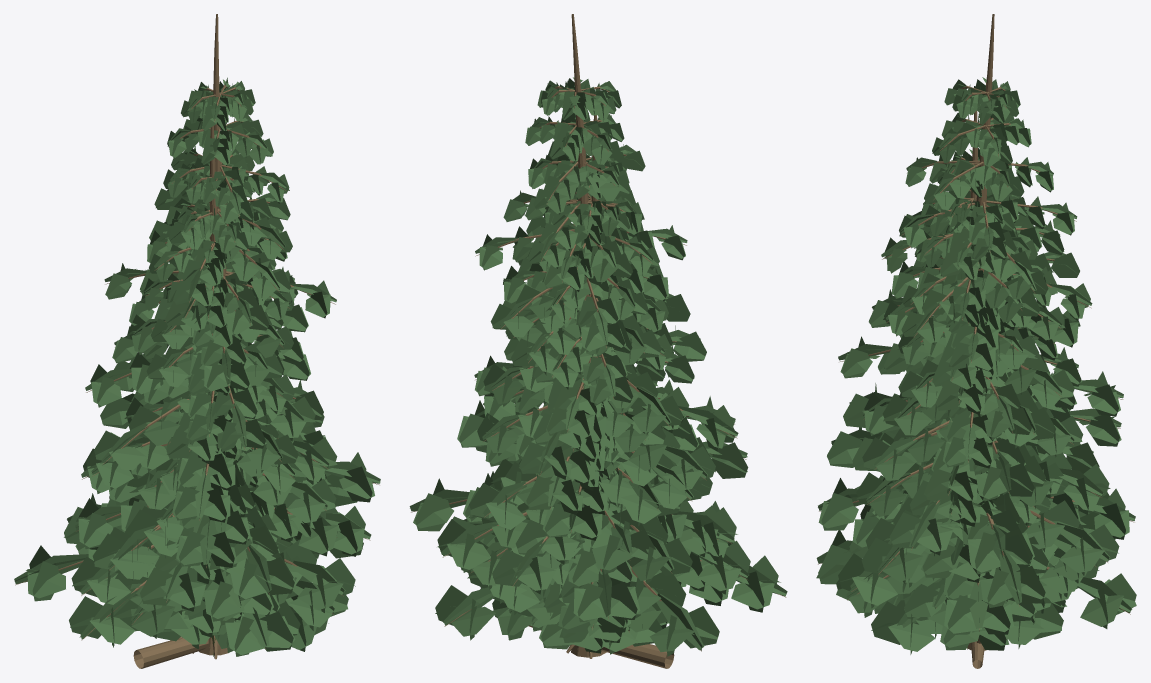
Rendered from shore_kit.glb.
The picture shows the model from 3 angles, left to right: view 1: azimuth 30°, elevation 25°; view 2: azimuth 150°, elevation 25°; view 3: azimuth 270°, elevation 25°; orthographic projection.
Parts seen in each view (by area): view 1: FirB_Needles, FirA_Needles, YoungFir_Needles, FirB_Wood, FirA_Wood, Driftwood; view 2: FirB_Needles, FirA_Needles, YoungFir_Needles, FirB_Wood, FirA_Wood, Driftwood; view 3: FirB_Needles, FirA_Needles, YoungFir_Needles, FirB_Wood, FirA_Wood.
Part boxes in pixels (x1,y1,x2,y2): FirB_Needles: [14, 77, 380, 647]; FirA_Needles: [64, 164, 371, 656]; YoungFir_Needles: [134, 390, 328, 652]; FirB_Wood: [15, 14, 379, 655]; FirA_Wood: [76, 126, 370, 659]; Driftwood: [133, 636, 208, 668]; FirB_Needles: [409, 77, 787, 656]; FirA_Needles: [435, 155, 750, 640]; YoungFir_Needles: [492, 384, 681, 654]; FirB_Wood: [411, 14, 786, 657]; FirA_Wood: [444, 115, 747, 658]; Driftwood: [528, 625, 674, 668]; FirB_Needles: [818, 77, 1123, 634]; FirA_Needles: [816, 149, 1136, 628]; YoungFir_Needles: [871, 412, 1066, 654]; FirB_Wood: [819, 14, 1123, 650]; FirA_Wood: [818, 110, 1134, 649].
Size of the model in its own units: 7.5 by 14.02 by 6.43.
